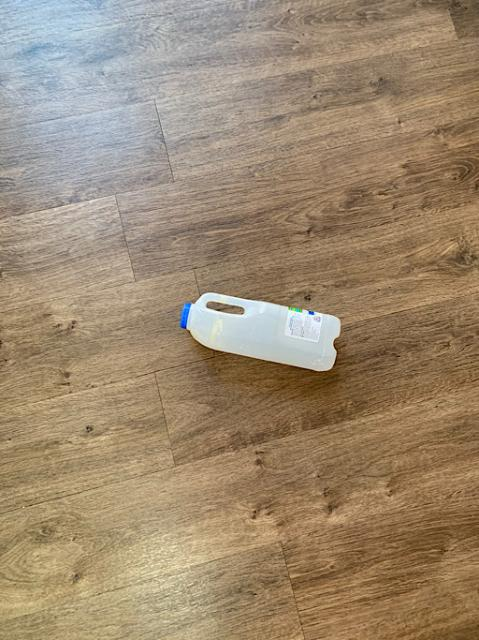plastic: (180, 291, 339, 369)
